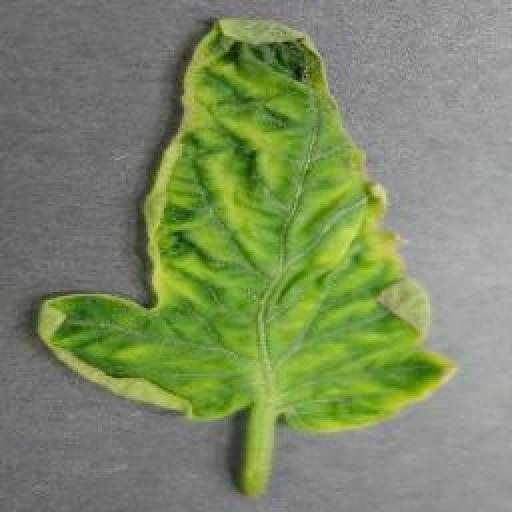disease_tomato: (34, 18, 460, 434)
